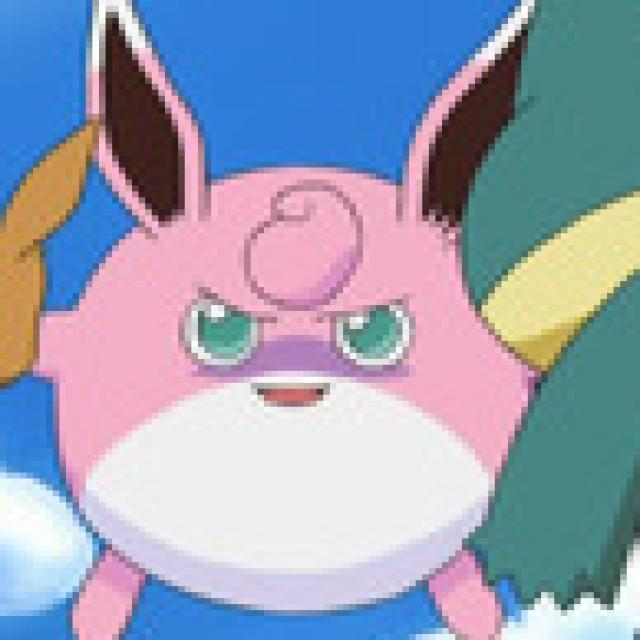Wigglytuff: (58, 60, 525, 640)
